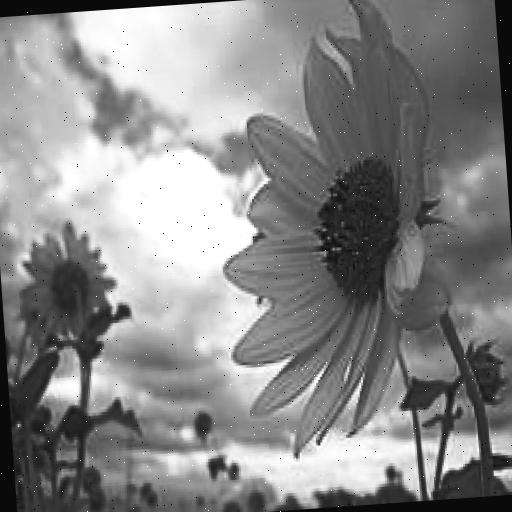sunflower: (205, 0, 460, 471), (10, 212, 122, 347)
